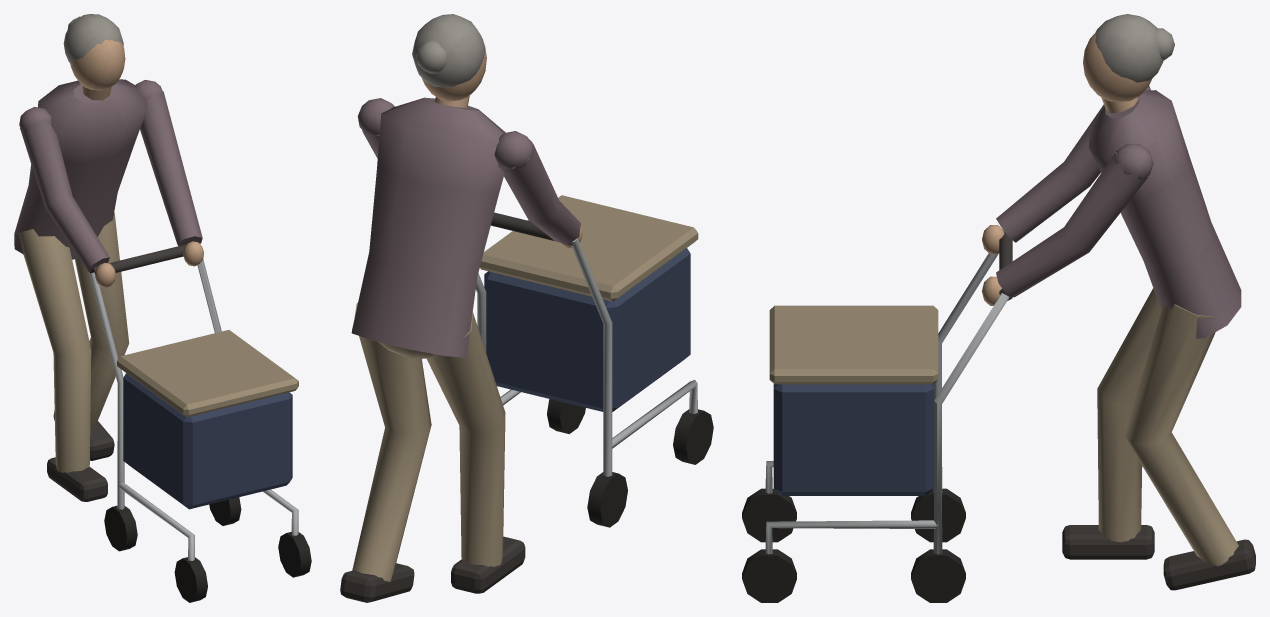
Rendered from people_elder_01.glb.
3 renders of one model, left to right at view 1: azimuth 30°, elevation 25°; view 2: azimuth 150°, elevation 25°; view 3: azimuth 270°, elevation 25°, orthographic. The views are drawn at different scales.
Visible parts, largest first — view 1: people_elder_01; view 2: people_elder_01; view 3: people_elder_01.
Part boxes in pixels (bbox=[...]): people_elder_01: bbox=[14, 14, 311, 602]; people_elder_01: bbox=[340, 14, 713, 602]; people_elder_01: bbox=[742, 14, 1255, 602].
Bounding box in the file's own units: 0.461 × 1.45 × 1.22.
